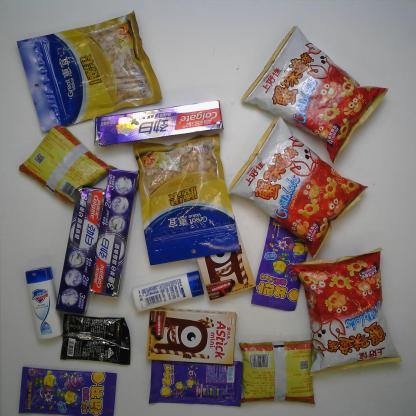Candy: (252, 215, 311, 312), (146, 355, 245, 409), (18, 364, 119, 416)
Dessert: (193, 209, 257, 301), (146, 306, 238, 366)
Dried Fruit: (16, 10, 164, 133), (129, 134, 243, 266)
Instant Drink: (59, 313, 133, 369)
Personal Hygiene: (89, 168, 144, 300), (56, 185, 107, 316), (95, 100, 224, 147), (131, 270, 205, 312), (24, 265, 64, 341)
Puffed Food: (239, 26, 389, 163), (228, 115, 368, 258), (291, 247, 405, 376)
Seasoner: (20, 124, 116, 206), (238, 339, 320, 407)
